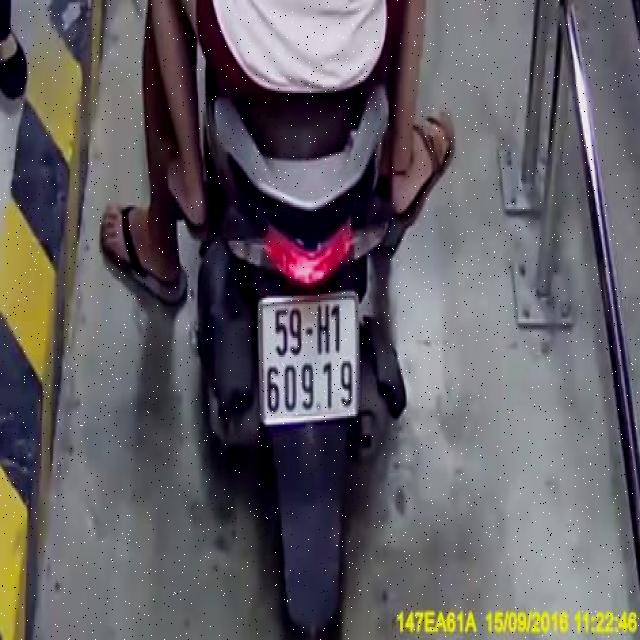0: (283, 361, 297, 412)
1: (330, 303, 342, 355)
5: (272, 306, 290, 357)
6: (266, 364, 281, 414)
9: (288, 304, 303, 356), (300, 362, 315, 410), (321, 361, 335, 412)
H: (316, 302, 332, 357)
